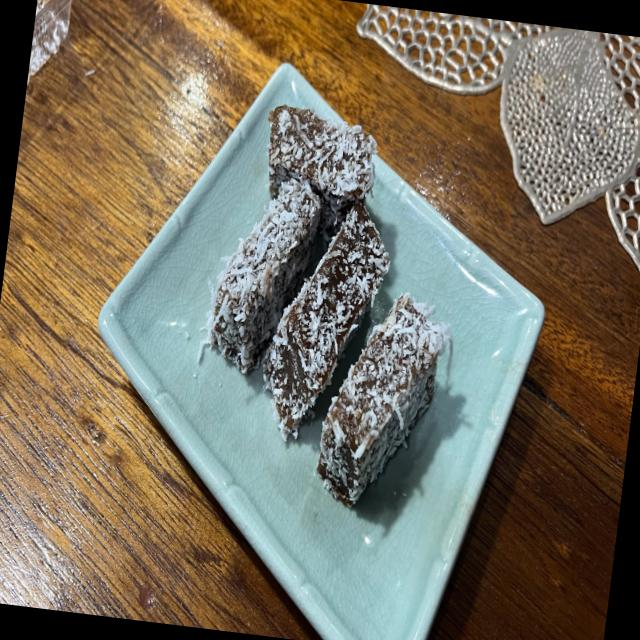kaswi: (262, 202, 389, 439), (317, 292, 450, 505), (206, 178, 320, 373), (268, 105, 376, 241)
